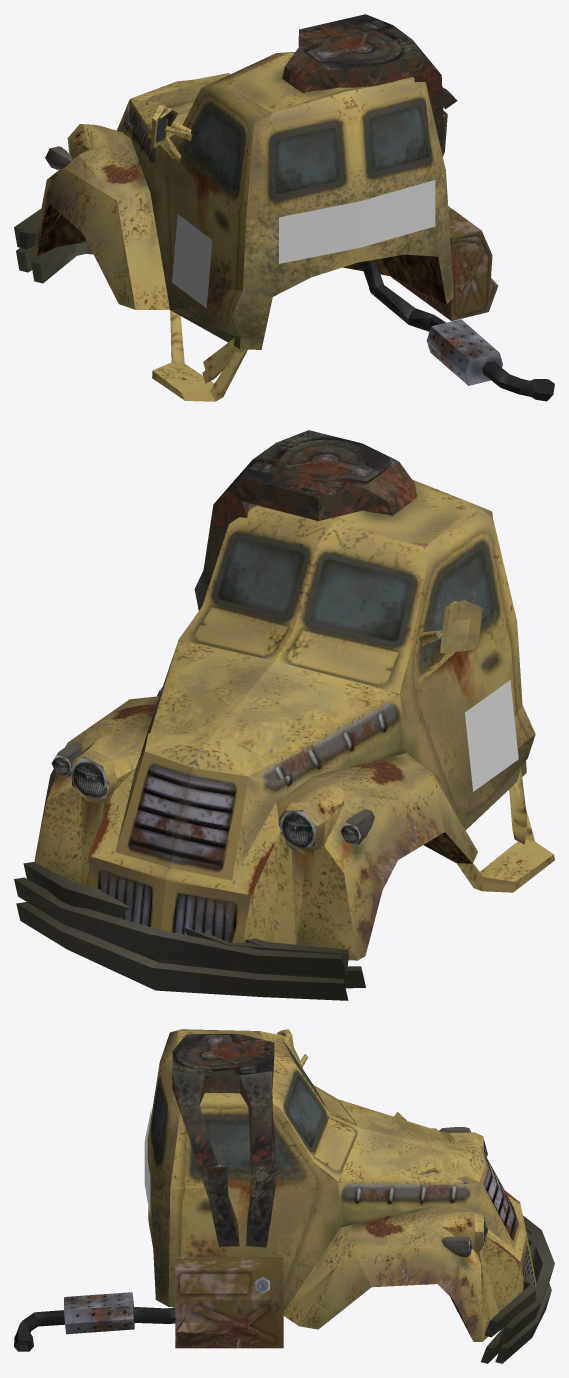
The model's file is Cab01.fbx.
The picture shows the model from 3 angles, top to bottom: view 1: azimuth 30°, elevation 25°; view 2: azimuth 150°, elevation 25°; view 3: azimuth 270°, elevation 25°; orthographic projection. The views are drawn at different scales.
Parts seen in each view (by area): view 1: polySurface40_2, polySurface40_1, polySurface43_2, polySurface41_2, LOGO_1, polySurface25_2, polySurface41_1, polySurface43_1, polySurface40_3, polySurface25_1, polySurface44_2, polySurface41_3 (+3 smaller); view 2: polySurface44_1, polySurface41_1, polySurface40_1, polySurface40_2, polySurface43_2, polySurface41_2, polySurface42_1, polySurface44_2, polySurface43_1, polySurface42_3, LOGO_1, polySurface42_2 (+3 smaller); view 3: polySurface43_2, polySurface42_1, polySurface43_1, polySurface44_1, polySurface25_3, polySurface25_2, polySurface42_2, polySurface25_1, polySurface42_3, polySurface44_2, polySurface41_2, polySurface41_1 (+4 smaller).
Part boxes in pixels (<box>): polySurface40_2: <box>147,53,358,383</box>; polySurface40_1: <box>150,83,351,401</box>; polySurface43_2: <box>282,14,457,304</box>; polySurface41_2: <box>43,85,201,309</box>; LOGO_1: <box>172,180,435,307</box>; polySurface25_2: <box>361,238,554,401</box>; polySurface41_1: <box>33,98,191,255</box>; polySurface43_1: <box>280,40,445,180</box>; polySurface40_3: <box>158,144,357,372</box>; polySurface25_1: <box>445,206,492,320</box>; polySurface44_2: <box>18,100,129,283</box>; polySurface41_3: <box>42,81,192,307</box>; polySurface44_1: <box>14,750,348,1000</box>; polySurface41_1: <box>220,661,444,960</box>; polySurface40_1: <box>293,479,554,892</box>; polySurface40_2: <box>275,504,526,890</box>; polySurface43_2: <box>179,430,417,661</box>; polySurface41_2: <box>219,661,477,944</box>; polySurface42_1: <box>34,639,274,884</box>; polySurface44_2: <box>23,777,365,988</box>; polySurface43_1: <box>198,460,343,630</box>; polySurface42_3: <box>54,661,274,870</box>; LOGO_1: <box>465,680,518,791</box>; polySurface42_2: <box>54,725,210,884</box>; polySurface43_2: <box>147,1034,359,1309</box>; polySurface42_1: <box>283,1128,489,1341</box>; polySurface43_1: <box>153,1056,331,1247</box>; polySurface44_1: <box>466,1144,554,1363</box>; polySurface25_3: <box>175,1257,283,1348</box>; polySurface25_2: <box>14,1276,283,1351</box>; polySurface42_2: <box>283,1151,489,1329</box>; polySurface25_1: <box>175,1257,283,1348</box>; polySurface42_3: <box>360,1128,489,1317</box>; polySurface44_2: <box>479,1190,537,1363</box>; polySurface41_2: <box>338,1099,467,1147</box>; polySurface41_1: <box>339,1100,487,1156</box>.
Bounding box in the file's own units: 278 × 266 × 473.
